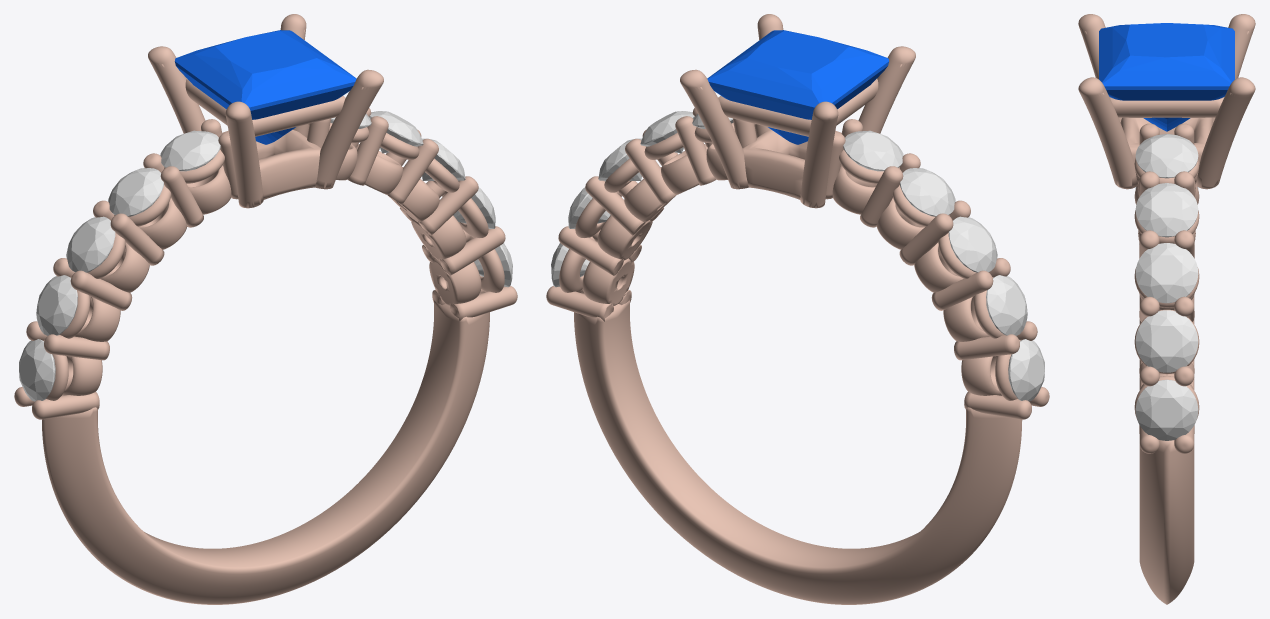
File: bluesapphire-princess-rosegold-4prong-knifeedge-11stone.glb
The picture shows the model from 3 angles, left to right: view 1: azimuth 30°, elevation 25°; view 2: azimuth 150°, elevation 25°; view 3: azimuth 270°, elevation 25°; orthographic projection.
Parts seen in each view (by area): view 1: metal, stone, side.002, side.003, side.001, side.004, side, side.008, side.007; view 2: metal, stone, side.002, side.003, side.001, side.004, side, side.008, side.007; view 3: metal, stone, side.006, side.005, side.007, side.008, side.009.
Part boxes in pixels (x1,y1,x2,y2): metal: [14, 14, 517, 604]; stone: [174, 30, 356, 144]; side.002: [66, 216, 115, 272]; side.003: [108, 168, 163, 216]; side.001: [36, 275, 77, 335]; side.004: [160, 130, 220, 171]; side: [19, 339, 55, 401]; side.008: [369, 111, 423, 153]; side.007: [422, 138, 465, 180]; metal: [546, 14, 1049, 604]; stone: [707, 30, 889, 144]; side.002: [948, 216, 997, 272]; side.003: [900, 168, 955, 216]; side.001: [986, 275, 1027, 335]; side.004: [843, 130, 903, 171]; side: [1008, 339, 1044, 401]; side.008: [640, 111, 694, 153]; side.007: [598, 138, 641, 180]; metal: [1078, 14, 1255, 604]; stone: [1099, 23, 1234, 131]; side.006: [1135, 310, 1198, 372]; side.005: [1135, 379, 1198, 440]; side.007: [1135, 243, 1198, 303]; side.008: [1135, 183, 1198, 237]; side.009: [1135, 134, 1198, 178].
Size of the model in its own units: 22 by 23.85 by 7.08.
